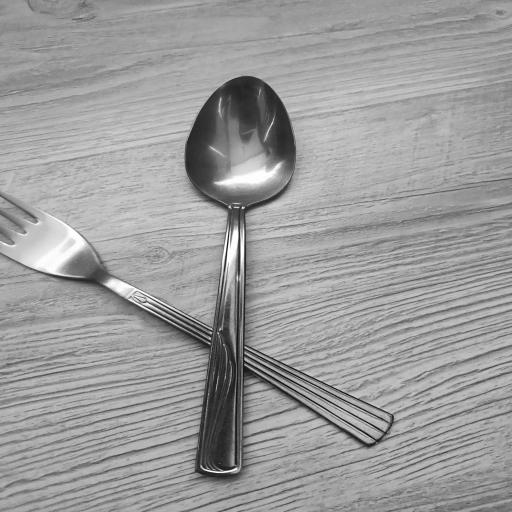fork: (0, 184, 392, 447)
spoon: (186, 70, 299, 486)
